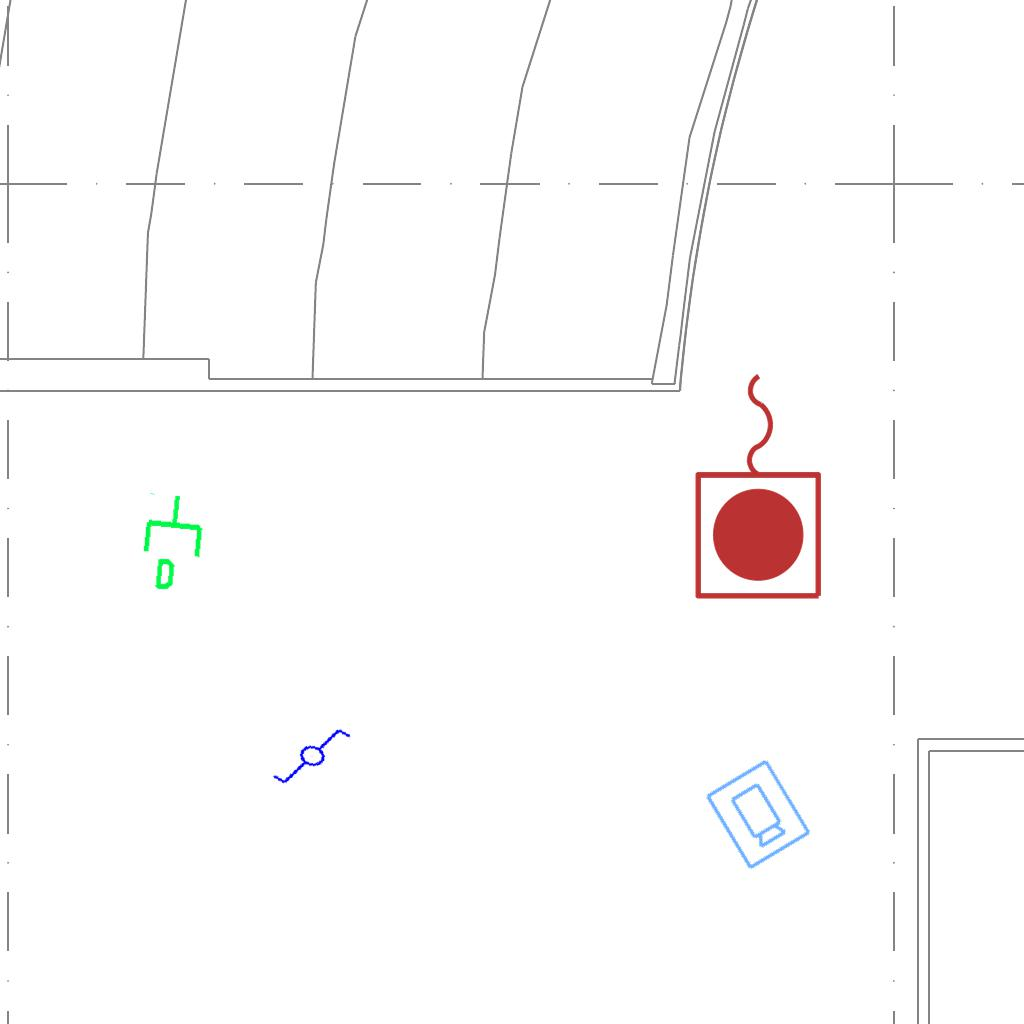Datenanschluss_einfach: (134, 489, 215, 597)
KFO_Kamera_mit_Festobjektiv: (701, 755, 814, 874)
Wechselschalter: (269, 713, 363, 803)
Zugtaster: (688, 363, 832, 607)
